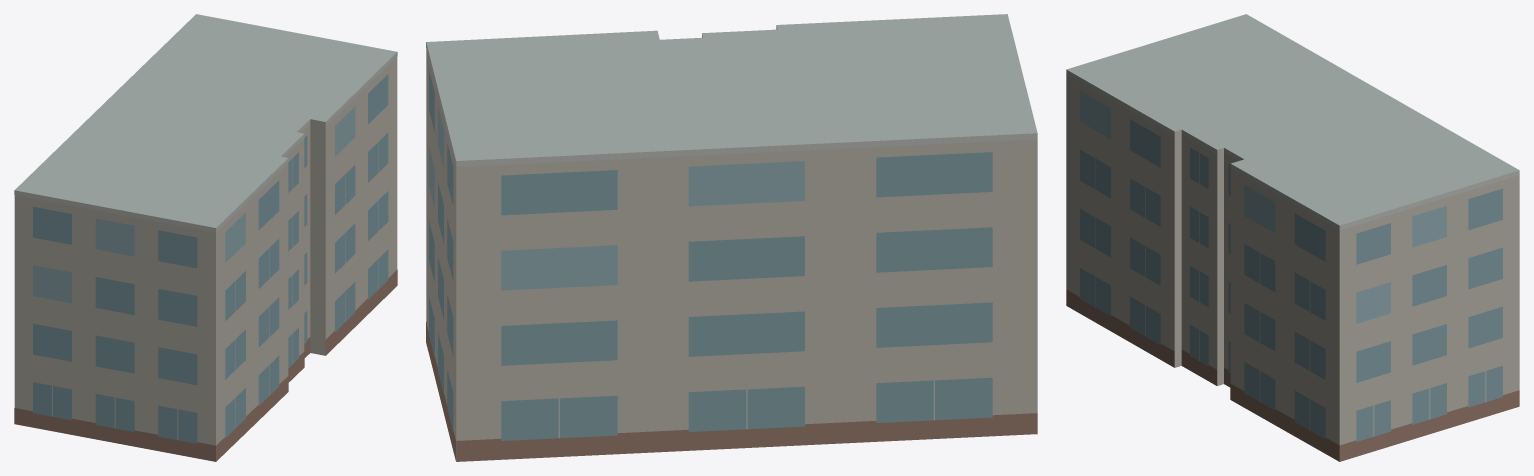
Rendered from survey-upis-32692413.glb.
3 views of the same model, side by side, from view 1: azimuth 30°, elevation 25°; view 2: azimuth 150°, elevation 25°; view 3: azimuth 270°, elevation 25° (orthographic). The views are drawn at different scales.
Visible parts, largest first — view 1: survey-upis-32692413.tmp; view 2: survey-upis-32692413.tmp; view 3: survey-upis-32692413.tmp.
Boxes of the visible parts, x1=… form: survey-upis-32692413.tmp: x1=14, y1=14, x2=397, y2=461; survey-upis-32692413.tmp: x1=426, y1=14, x2=1037, y2=461; survey-upis-32692413.tmp: x1=1066, y1=14, x2=1519, y2=461.
Size of the model in its own units: 23.44 by 12.2 by 21.22.
